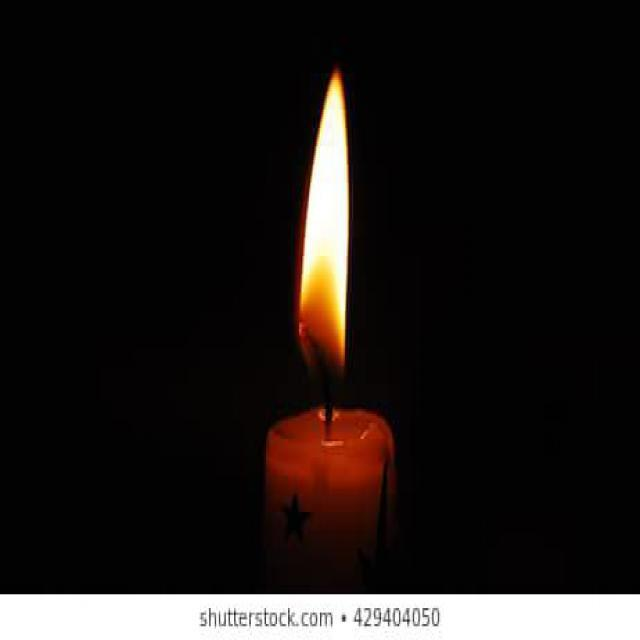Fire: (297, 69, 350, 394)
